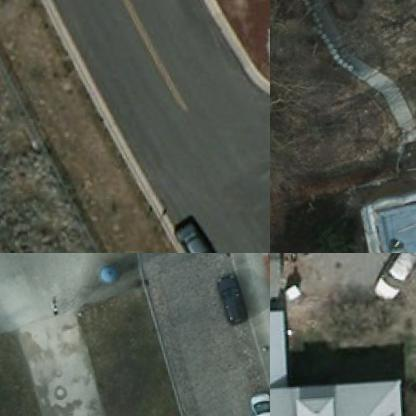car: (364, 253, 415, 310), (212, 276, 247, 332), (165, 219, 216, 252), (244, 396, 269, 415)
